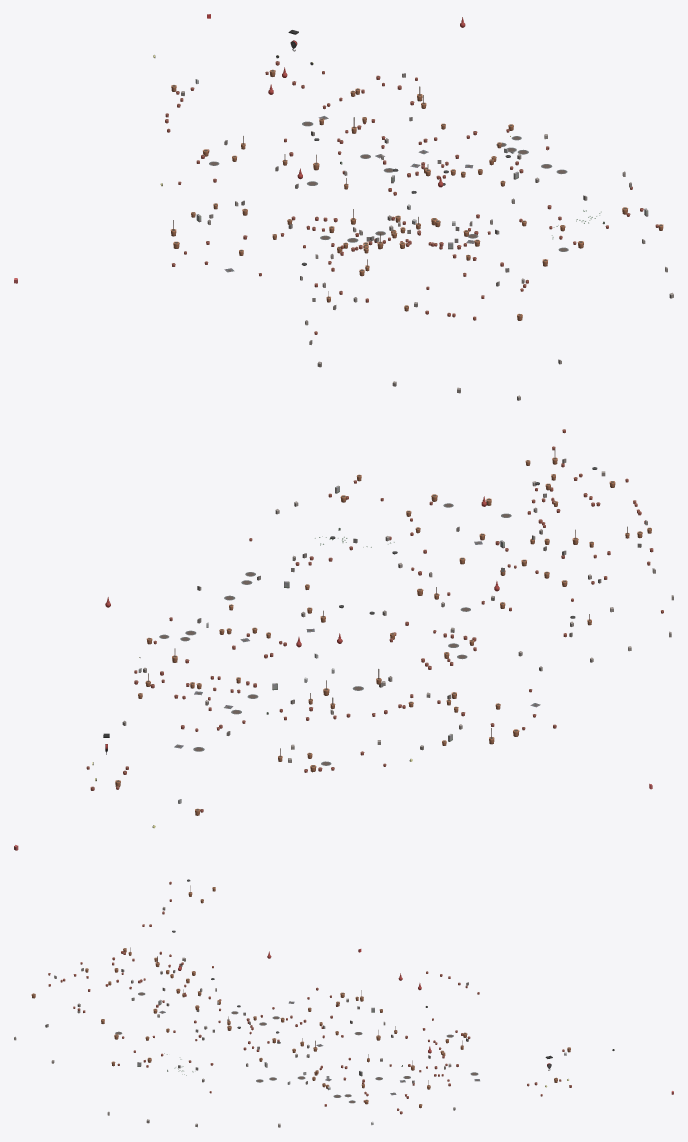
The model's file is props.glb.
3 views of the same model, one above another, from view 1: azimuth 30°, elevation 25°; view 2: azimuth 150°, elevation 25°; view 3: azimuth 270°, elevation 25° (orthographic). The views are drawn at different scales.
Visible parts, largest first — view 1: Props.007, Props.005, Props.001, Props.006, Props.008, Props.009, Props.003; view 2: Props.007, Props.005, Props.001, Props.008, Props.006, Props.009; view 3: Props.007, Props.005, Props.001, Props.006, Props.008.
Part boxes in pixels (x1,y1,x2,y2): Props.007: [300, 117, 561, 400]; Props.005: [391, 124, 587, 225]; Props.001: [302, 17, 510, 175]; Props.006: [500, 154, 673, 298]; Props.008: [331, 117, 514, 302]; Props.009: [272, 154, 416, 241]; Props.003: [160, 67, 293, 205]; Props.007: [410, 429, 673, 671]; Props.005: [138, 580, 343, 690]; Props.001: [105, 597, 294, 751]; Props.008: [382, 460, 530, 656]; Props.006: [245, 474, 453, 589]; Props.009: [308, 581, 499, 708]; Props.007: [14, 879, 229, 1063]; Props.005: [269, 1038, 373, 1127]; Props.001: [375, 1040, 479, 1114]; Props.006: [107, 1026, 267, 1127]; Props.008: [184, 899, 266, 1082].
Bounding box in the file's own units: 27.29 × 10.52 × 43.18.
Materials: 10 (10 with a texture image).
